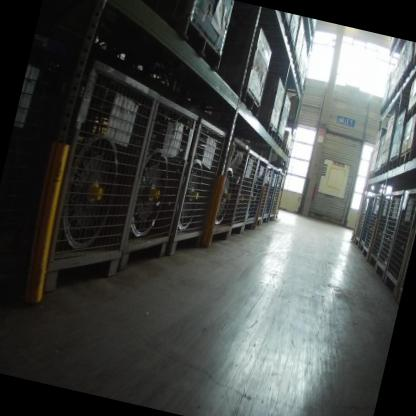pallet: (168, 11, 237, 79), (231, 85, 266, 118), (258, 120, 282, 144), (271, 13, 294, 34), (286, 48, 302, 76), (398, 147, 416, 170), (400, 64, 415, 90), (284, 28, 299, 52), (290, 66, 304, 90), (386, 151, 400, 174), (406, 96, 416, 128), (273, 128, 287, 150), (295, 79, 308, 102), (393, 79, 405, 99), (385, 90, 397, 110), (378, 101, 389, 117), (281, 143, 293, 157), (410, 44, 416, 70), (380, 162, 388, 176), (373, 166, 380, 180), (368, 171, 374, 182)
stillage: (6, 35, 169, 302), (0, 6, 87, 312), (117, 80, 206, 274), (165, 111, 233, 259), (204, 129, 256, 259), (377, 180, 416, 303), (228, 141, 263, 242), (374, 184, 407, 280), (368, 185, 396, 268), (243, 153, 270, 234), (251, 159, 276, 231), (361, 192, 385, 263), (260, 165, 281, 227), (358, 193, 378, 255), (351, 194, 371, 250), (267, 167, 285, 225), (272, 170, 290, 221)
